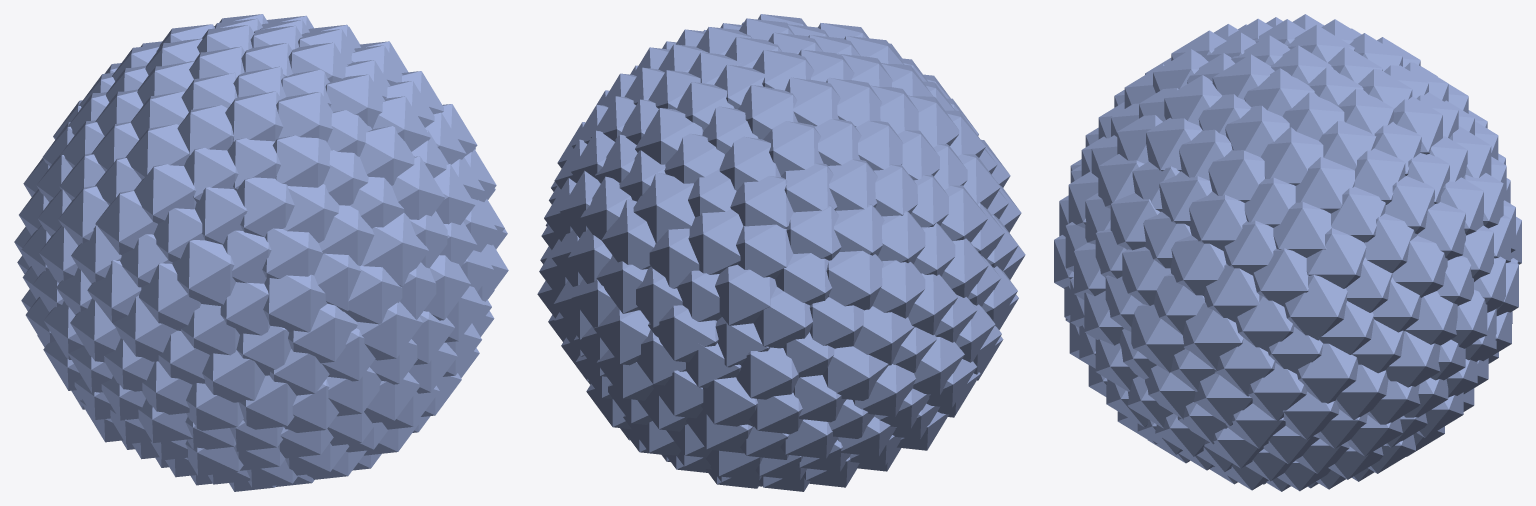
File: Phi_Nest_Quasicrystal.glb
The picture shows the model from 3 angles, left to right: view 1: azimuth 30°, elevation 25°; view 2: azimuth 150°, elevation 25°; view 3: azimuth 270°, elevation 25°; orthographic projection. The views are drawn at different scales.
Visible parts, largest first — view 1: Cloud_46, Cloud_12, Cloud_10, Cloud_41, Cloud_49, Cloud_88, Cloud_59, Cloud_20, Cloud_30, Cloud_4, Cloud_2, Cloud_101 (+113 smaller); view 2: Cloud_261, Cloud_224, Cloud_266, Cloud_256, Cloud_240, Cloud_263, Cloud_253, Cloud_229, Cloud_258, Cloud_279, Cloud_206, Cloud_264 (+109 smaller); view 3: Cloud_157, Cloud_94, Cloud_170, Cloud_89, Cloud_141, Cloud_81, Cloud_165, Cloud_149, Cloud_55, Cloud_136, Cloud_162, Cloud_107 (+109 smaller).
Boxes of the visible parts, x1,y1,x2,y2 form: Cloud_46: (172, 240, 235, 305); Cloud_12: (263, 274, 327, 332); Cloud_10: (362, 213, 428, 286); Cloud_41: (236, 177, 294, 237); Cloud_49: (272, 135, 330, 187); Cloud_88: (134, 164, 196, 223); Cloud_59: (139, 263, 200, 330); Cloud_20: (262, 228, 323, 278); Cloud_30: (202, 350, 265, 402); Cloud_4: (288, 304, 357, 363); Cloud_2: (344, 265, 402, 324); Cloud_101: (95, 190, 157, 254); Cloud_261: (688, 209, 743, 274); Cloud_224: (826, 250, 883, 310); Cloud_266: (715, 264, 776, 325); Cloud_256: (633, 173, 694, 242); Cloud_240: (730, 176, 793, 228); Cloud_263: (736, 347, 798, 399); Cloud_253: (736, 224, 793, 279); Cloud_229: (823, 346, 888, 400); Cloud_258: (753, 287, 813, 348); Cloud_279: (648, 305, 718, 362); Cloud_206: (763, 121, 823, 175); Cloud_264: (601, 199, 655, 269); Cloud_157: (1284, 275, 1347, 340); Cloud_94: (1189, 191, 1246, 250); Cloud_170: (1306, 228, 1366, 288); Cloud_89: (1183, 303, 1243, 370); Cloud_141: (1260, 127, 1323, 185); Cloud_81: (1170, 235, 1226, 295); Cloud_165: (1297, 343, 1358, 403); Cloud_149: (1273, 201, 1331, 257); Cloud_55: (1131, 304, 1184, 372); Cloud_136: (1253, 248, 1308, 306); Cloud_162: (1295, 157, 1355, 213); Cloud_107: (1208, 150, 1265, 202).
Bounding box in the file's own units: 10.26 × 10.29 × 10.39.
